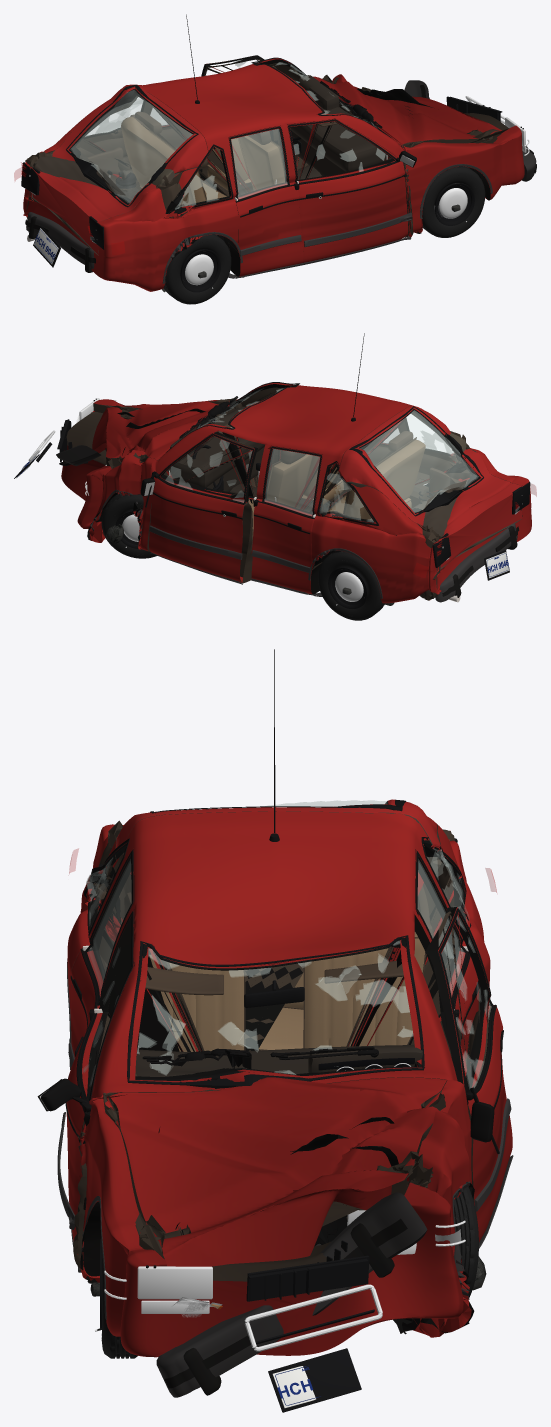
The model's file is hatchback85_front_corner_d2.glb.
3 views of the same model, one above another, from view 1: azimuth 30°, elevation 25°; view 2: azimuth 150°, elevation 25°; view 3: azimuth 270°, elevation 25° (orthographic). The views are drawn at different scales.
Visible parts, largest first — view 1: Body, Interior, Hatch, Door_FR, Glass_Hatch, Hood, Door_RR, Wheel_FR_mesh, Wheel_RR_mesh, Glass_RR, Ends, Trim_FR (+9 smaller); view 2: Body, Interior, Hatch, Door_FL, Glass_Hatch, Door_RL, Hood, Wheel_RL_mesh, Glass_RL, Ends, Glass, Trim_FL (+7 smaller); view 3: Body, Hood, Interior, Ends, Glass, Bumper_F, Door_FL, Trim, Door_FR, Trim_FL, Trim_FR, Door_RR (+10 smaller).
Part boxes in pixels (box(x1,y1,x2,y2)): Body: box(23, 58, 524, 291); Interior: box(87, 65, 386, 205); Hatch: box(30, 84, 208, 255); Door_FR: box(287, 118, 409, 262); Glass_Hatch: box(66, 84, 198, 207); Hood: box(315, 74, 501, 146); Door_RR: box(228, 125, 303, 276); Wheel_FR_mesh: box(422, 166, 485, 237); Wheel_RR_mesh: box(164, 234, 231, 304); Glass_RR: box(229, 129, 289, 199); Ends: box(21, 96, 529, 267); Trim_FR: box(288, 119, 416, 265); Body: box(61, 383, 531, 603); Interior: box(170, 389, 460, 540); Hatch: box(338, 405, 522, 569); Door_FL: box(149, 432, 257, 583); Glass_Hatch: box(349, 406, 483, 516); Door_RL: box(251, 446, 322, 594); Hood: box(92, 401, 234, 465); Wheel_RL_mesh: box(318, 551, 385, 620); Glass_RL: box(262, 449, 322, 516); Ends: box(14, 398, 530, 580); Glass: box(166, 382, 453, 524); Trim_FL: box(140, 434, 254, 584); Body: box(67, 811, 490, 1357); Hood: box(105, 1077, 446, 1266); Interior: box(124, 886, 433, 1076); Ends: box(104, 838, 465, 1412); Glass: box(84, 840, 469, 1088); Bumper_F: box(156, 1192, 427, 1397); Door_FL: box(426, 907, 512, 1242); Trim: box(67, 649, 490, 1319); Door_FR: box(66, 910, 134, 1241); Trim_FL: box(438, 908, 513, 1248); Trim_FR: box(37, 911, 133, 1272); Door_RR: box(71, 849, 134, 1067).
Bounding box in the file's own units: 4.38 × 2.14 × 1.89.
33 materials, 5 textured.
